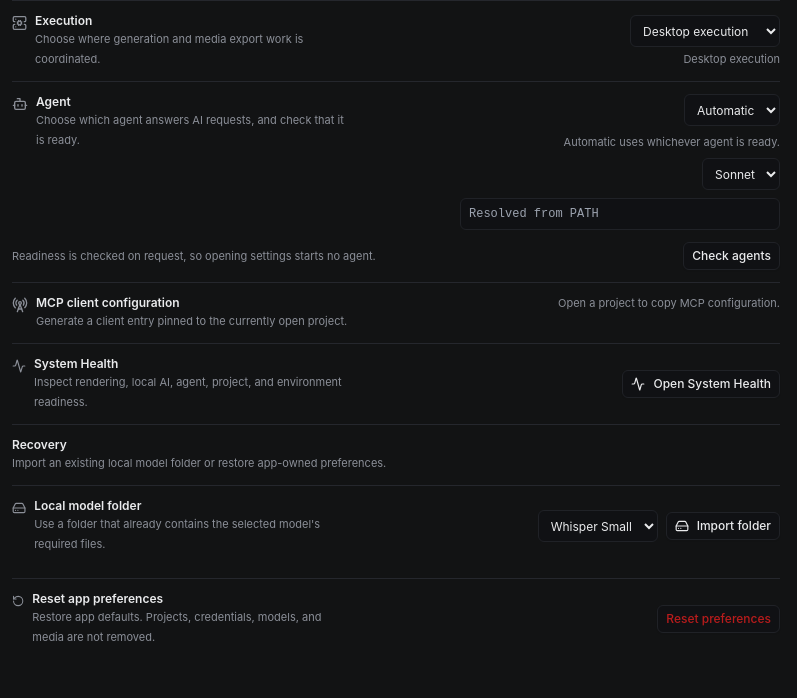
AdvancedSettings › offers status refresh retry after a successful import without repeating import
Click the button with aria-label "Import Whisper Small from folder" at (723, 526), box 666,512 -> 780,540
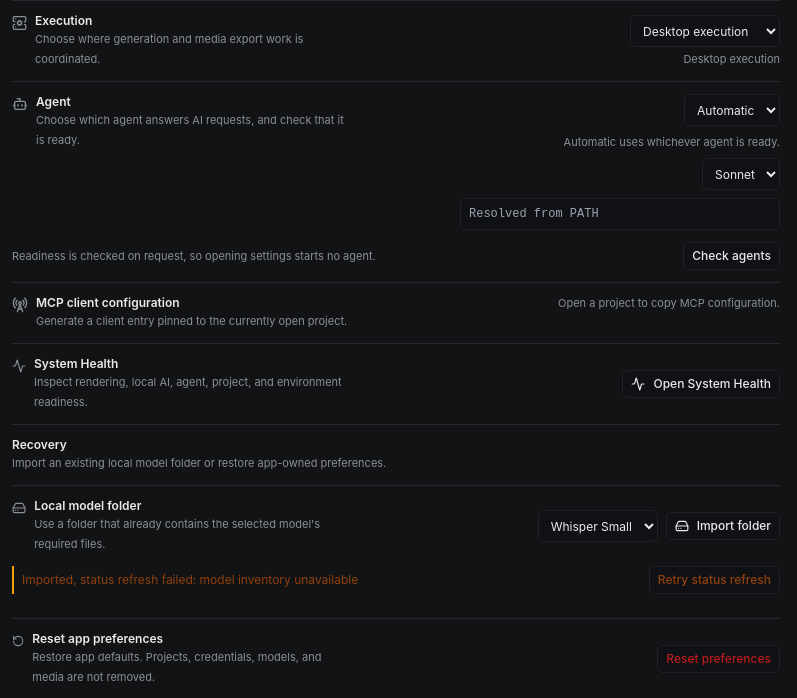
Result: the text "Imported, status refresh failed: model inventory unavailable" is shown at 22,572 -> 358,588
Click the button with aria-label "Retry imported model status refresh" at (714, 580), box 649,566 -> 780,594
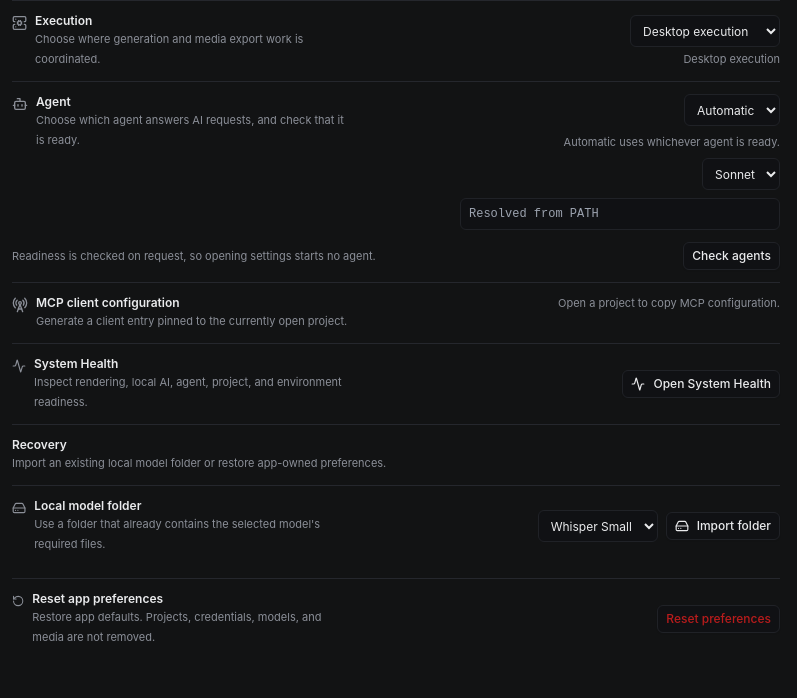
Result: the text "Imported, status refresh failed" is gone
